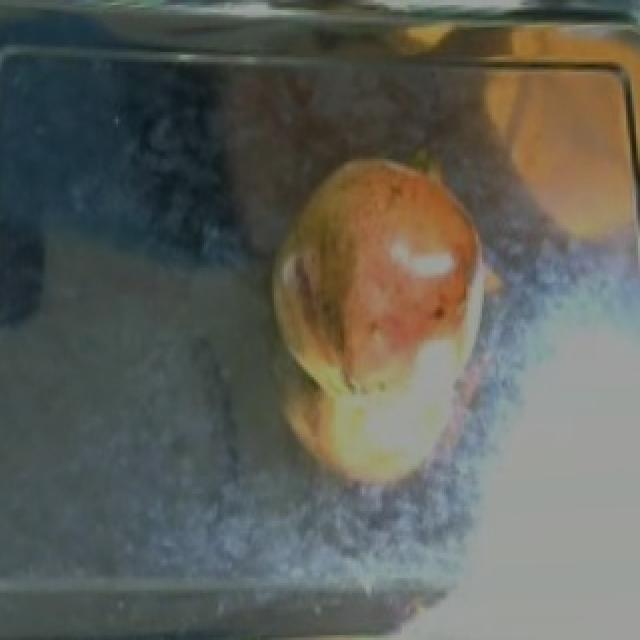fruit: (260, 134, 500, 379)
